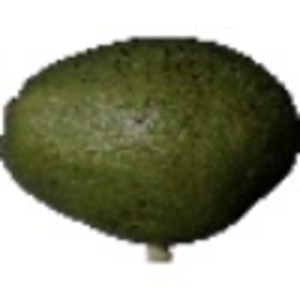abacate: (1, 33, 299, 244)
